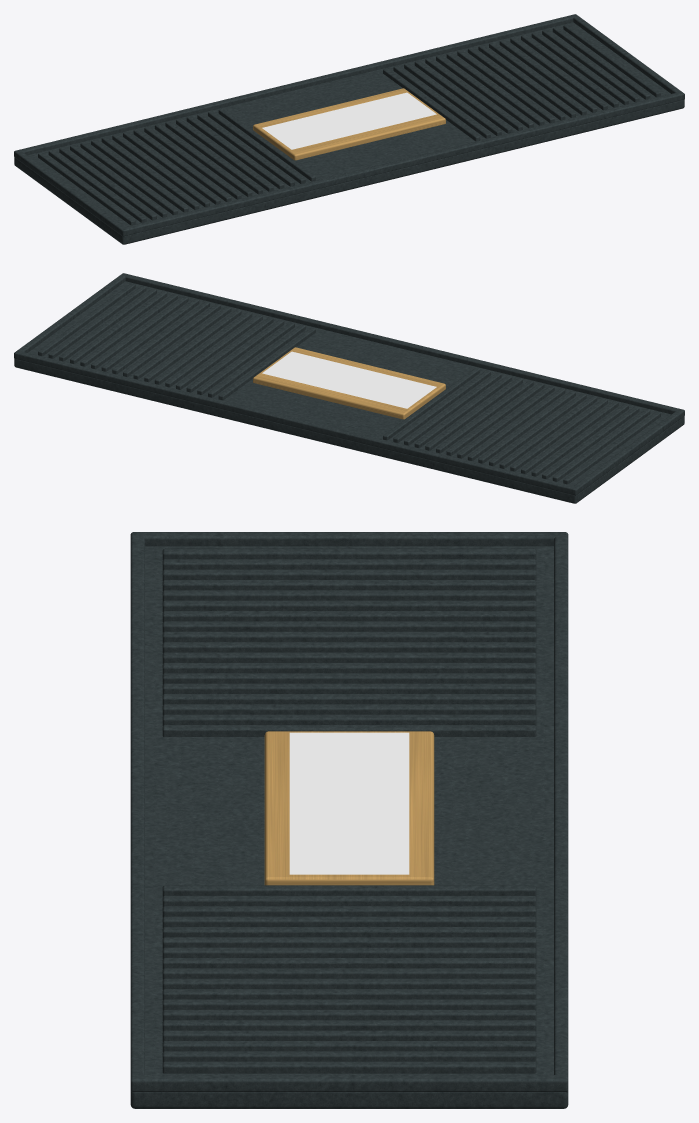
File: preview.glb
The picture shows the model from 3 angles, top to bottom: view 1: azimuth 30°, elevation 25°; view 2: azimuth 150°, elevation 25°; view 3: azimuth 270°, elevation 25°; orthographic projection. The views are drawn at different scales.
Visible parts, largest first — view 1: BarMat; view 2: BarMat; view 3: BarMat.
Boxes of the visible parts, x1,y1,x2,y2 form: BarMat: (14, 14, 684, 244); BarMat: (14, 273, 684, 503); BarMat: (130, 532, 568, 1108).
Bounding box in the file's own units: 0.445 × 0.0122 × 0.15.
Materials: 3 (2 with a texture image).
